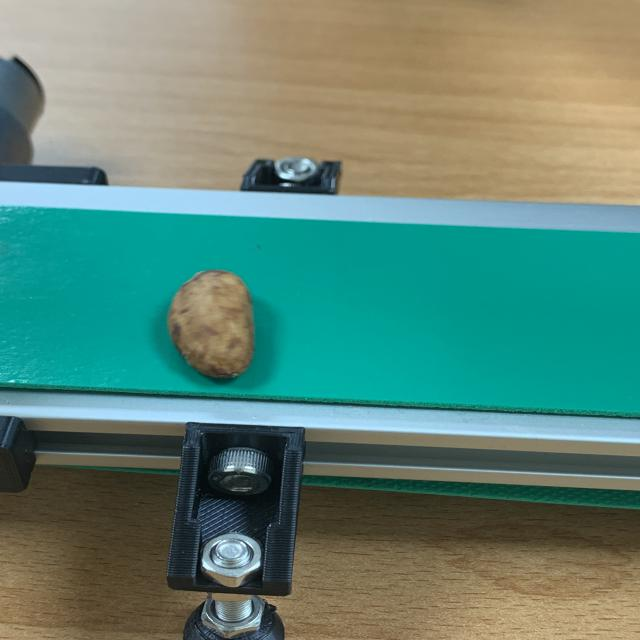Fine_cocoabeans: (126, 233, 322, 403)
